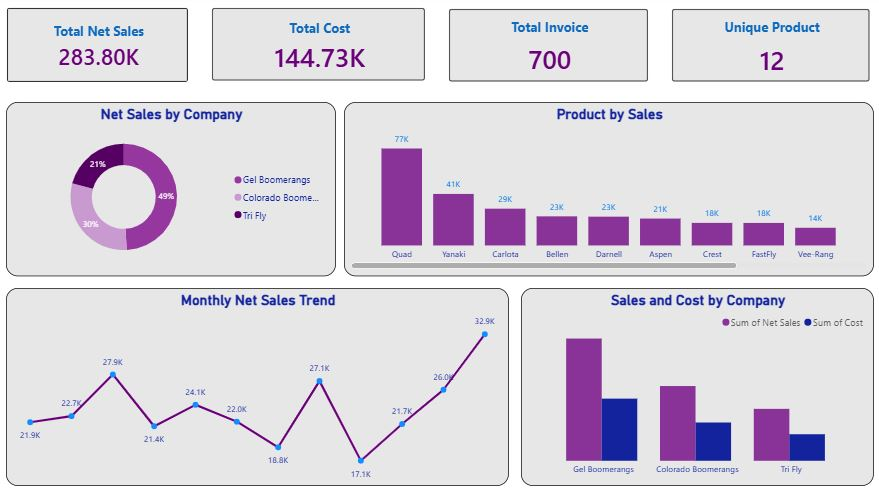

Layout of this report page (visuals, bound fields, positions):
{"tool":"powerbi","page":{"name":"Page 1","canvas":[1280,720],"ordinal":0},"visuals":[{"type":"cardVisual","fields":{"Data":["Count(master data.Invoice Number)"]},"box":[639.4,1.4,321.1,139.7],"z":0},{"type":"cardVisual","fields":{"Data":["Count(master data.Product)"]},"box":[960.5,1.4,319.7,139.7],"z":1000},{"type":"donutChart","fields":{"Category":["master data.Company"],"Y":["Sum(master data.Net Sales)"]},"box":[18.7,152.6,475.2,250.6],"z":2000},{"type":"columnChart","title":"Product by  Sales ","fields":{"Category":["master data.Product"],"Y":["Sum(master data.Net Sales)"]},"box":[505.4,152.6,763.2,250.6],"z":3000},{"type":"clusteredColumnChart","title":"Sales and Cost by Company","fields":{"Category":["master data.Company"],"Y":["Sum(master data.Net Sales)","Sum(master data.Cost)"]},"box":[760.3,420.5,508.3,285.1],"z":4000},{"type":"lineChart","title":"Monthly  Net Sales Trend","fields":{"Category":["master data.Date.Variation.Date Hierarchy.Month"],"Y":["Sum(master data.Net Sales)"]},"box":[18.7,420.5,724.3,285.1],"z":5000},{"type":"cardVisual","fields":{"Data":["Sum(master data.Net Sales)"]},"box":[2.9,0,295.2,141.1],"z":6000},{"type":"cardVisual","fields":{"Data":["Sum(master data.Cost)"]},"box":[298.1,0,341.3,139.7],"z":7000}]}

Visuals, with their boxes in screenshot pixels (x1, y1, x2, y2), scaled from the page's 1280x720 canvas onto the 879x493 screenshot:
cardVisual - Count(master data.Invoice Number): detection(439, 1, 660, 97)
cardVisual - Count(master data.Product): detection(660, 1, 878, 97)
donutChart - master data.Company x Sum(master data.Net Sales): detection(13, 104, 339, 276)
"Product by  Sales " columnChart: detection(347, 104, 871, 276)
"Sales and Cost by Company" clusteredColumnChart: detection(522, 288, 871, 483)
"Monthly  Net Sales Trend" lineChart: detection(13, 288, 510, 483)
cardVisual - Sum(master data.Net Sales): detection(2, 0, 205, 97)
cardVisual - Sum(master data.Cost): detection(205, 0, 439, 96)
